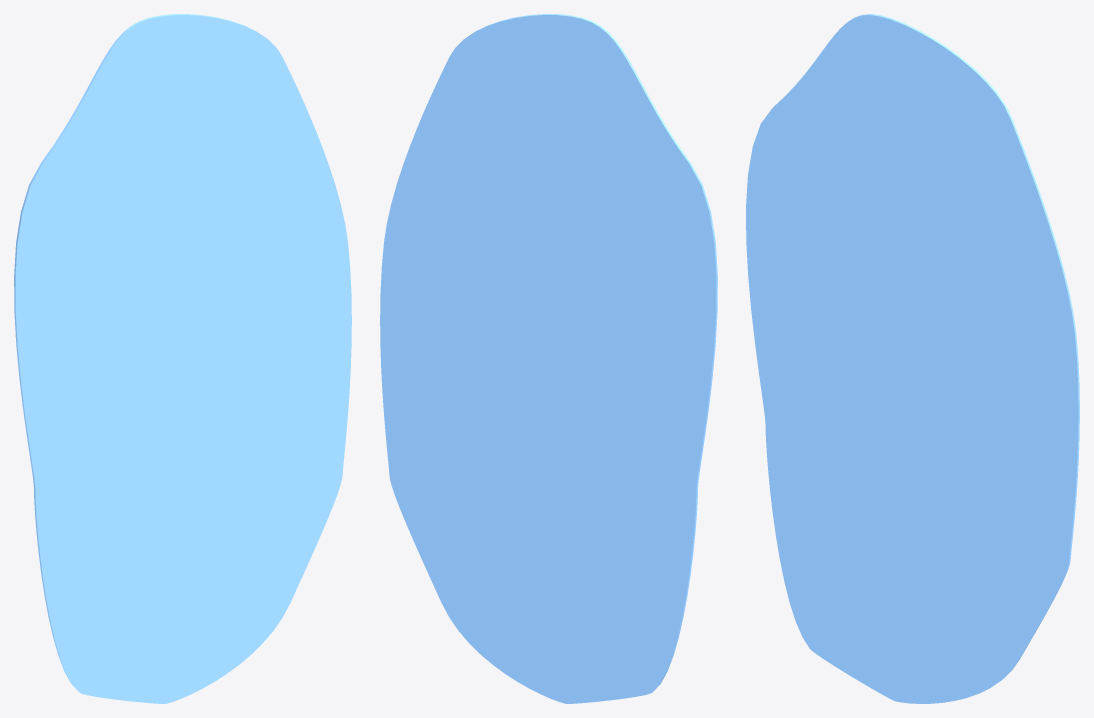
The model's file is lake1.glb.
3 renders of one model, left to right at view 1: azimuth 30°, elevation 25°; view 2: azimuth 150°, elevation 25°; view 3: azimuth 330°, elevation 25°, orthographic.
Parts seen in each view (by area): view 1: Ellipse; view 2: Ellipse; view 3: Ellipse.
Part boxes in pixels (x1=…): Ellipse: x1=14, y1=14, x2=351, y2=703; Ellipse: x1=380, y1=14, x2=717, y2=703; Ellipse: x1=746, y1=14, x2=1079, y2=703.
Bounding box in the file's own units: 6.88 × 13.47 × 0.05.
